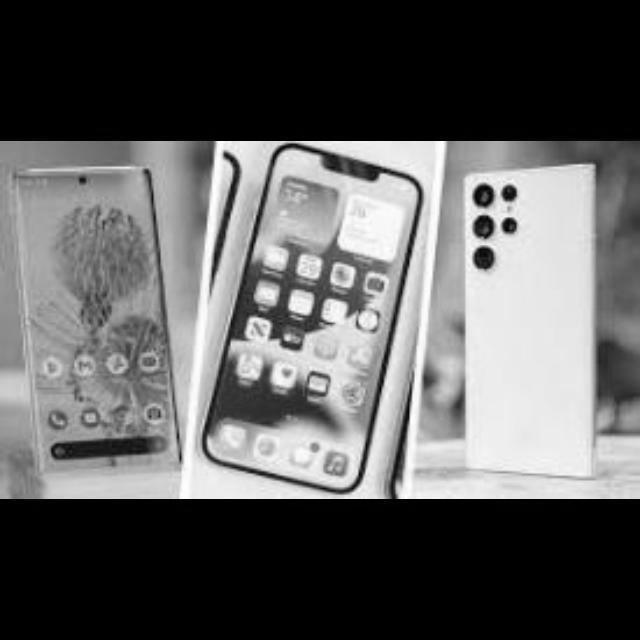fake: (201, 142, 416, 488), (0, 150, 172, 494), (461, 161, 618, 492)
